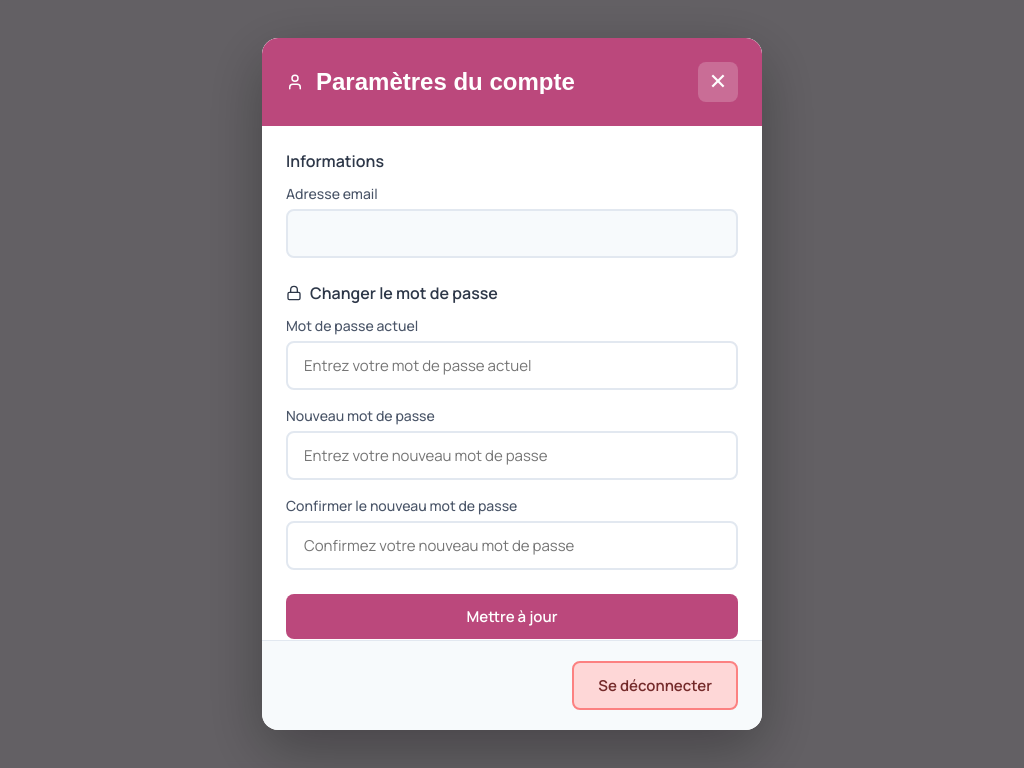
Test case: AccountSettingsModal › affiche une erreur si les champs sont vides au submit
Click the button "Mettre à jour": {"x": 512, "y": 617} x1=286 y1=594 x2=738 y2=639
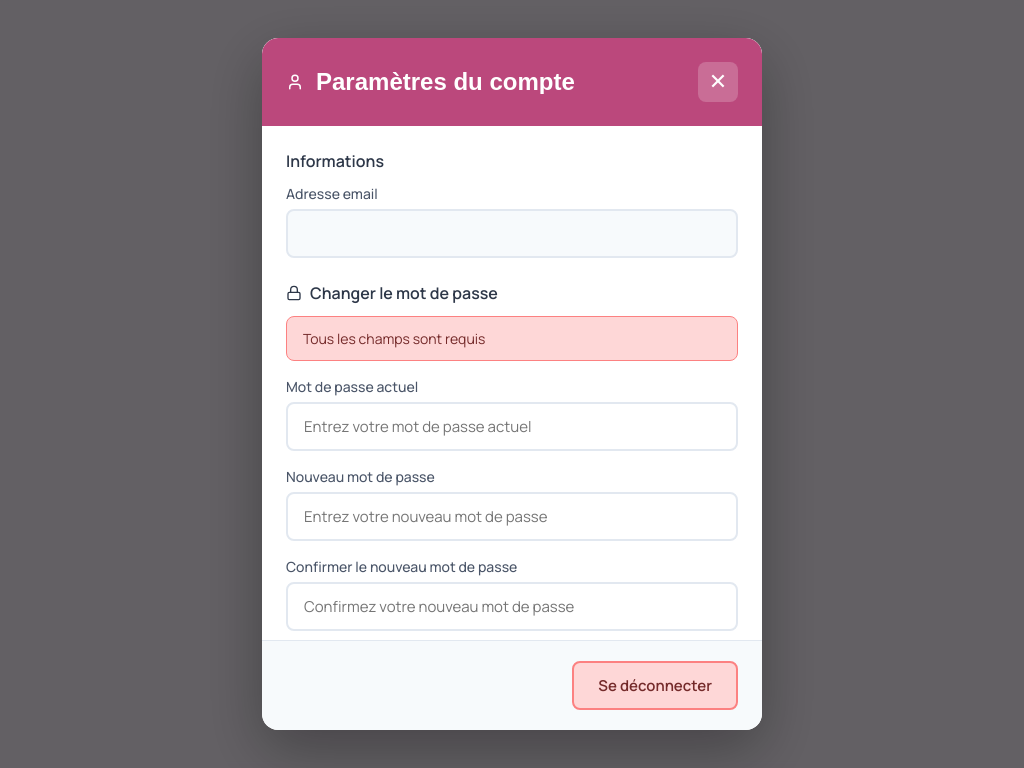
Expected: the text "Tous les champs sont requis" is shown, x1=286 y1=316 x2=738 y2=361
